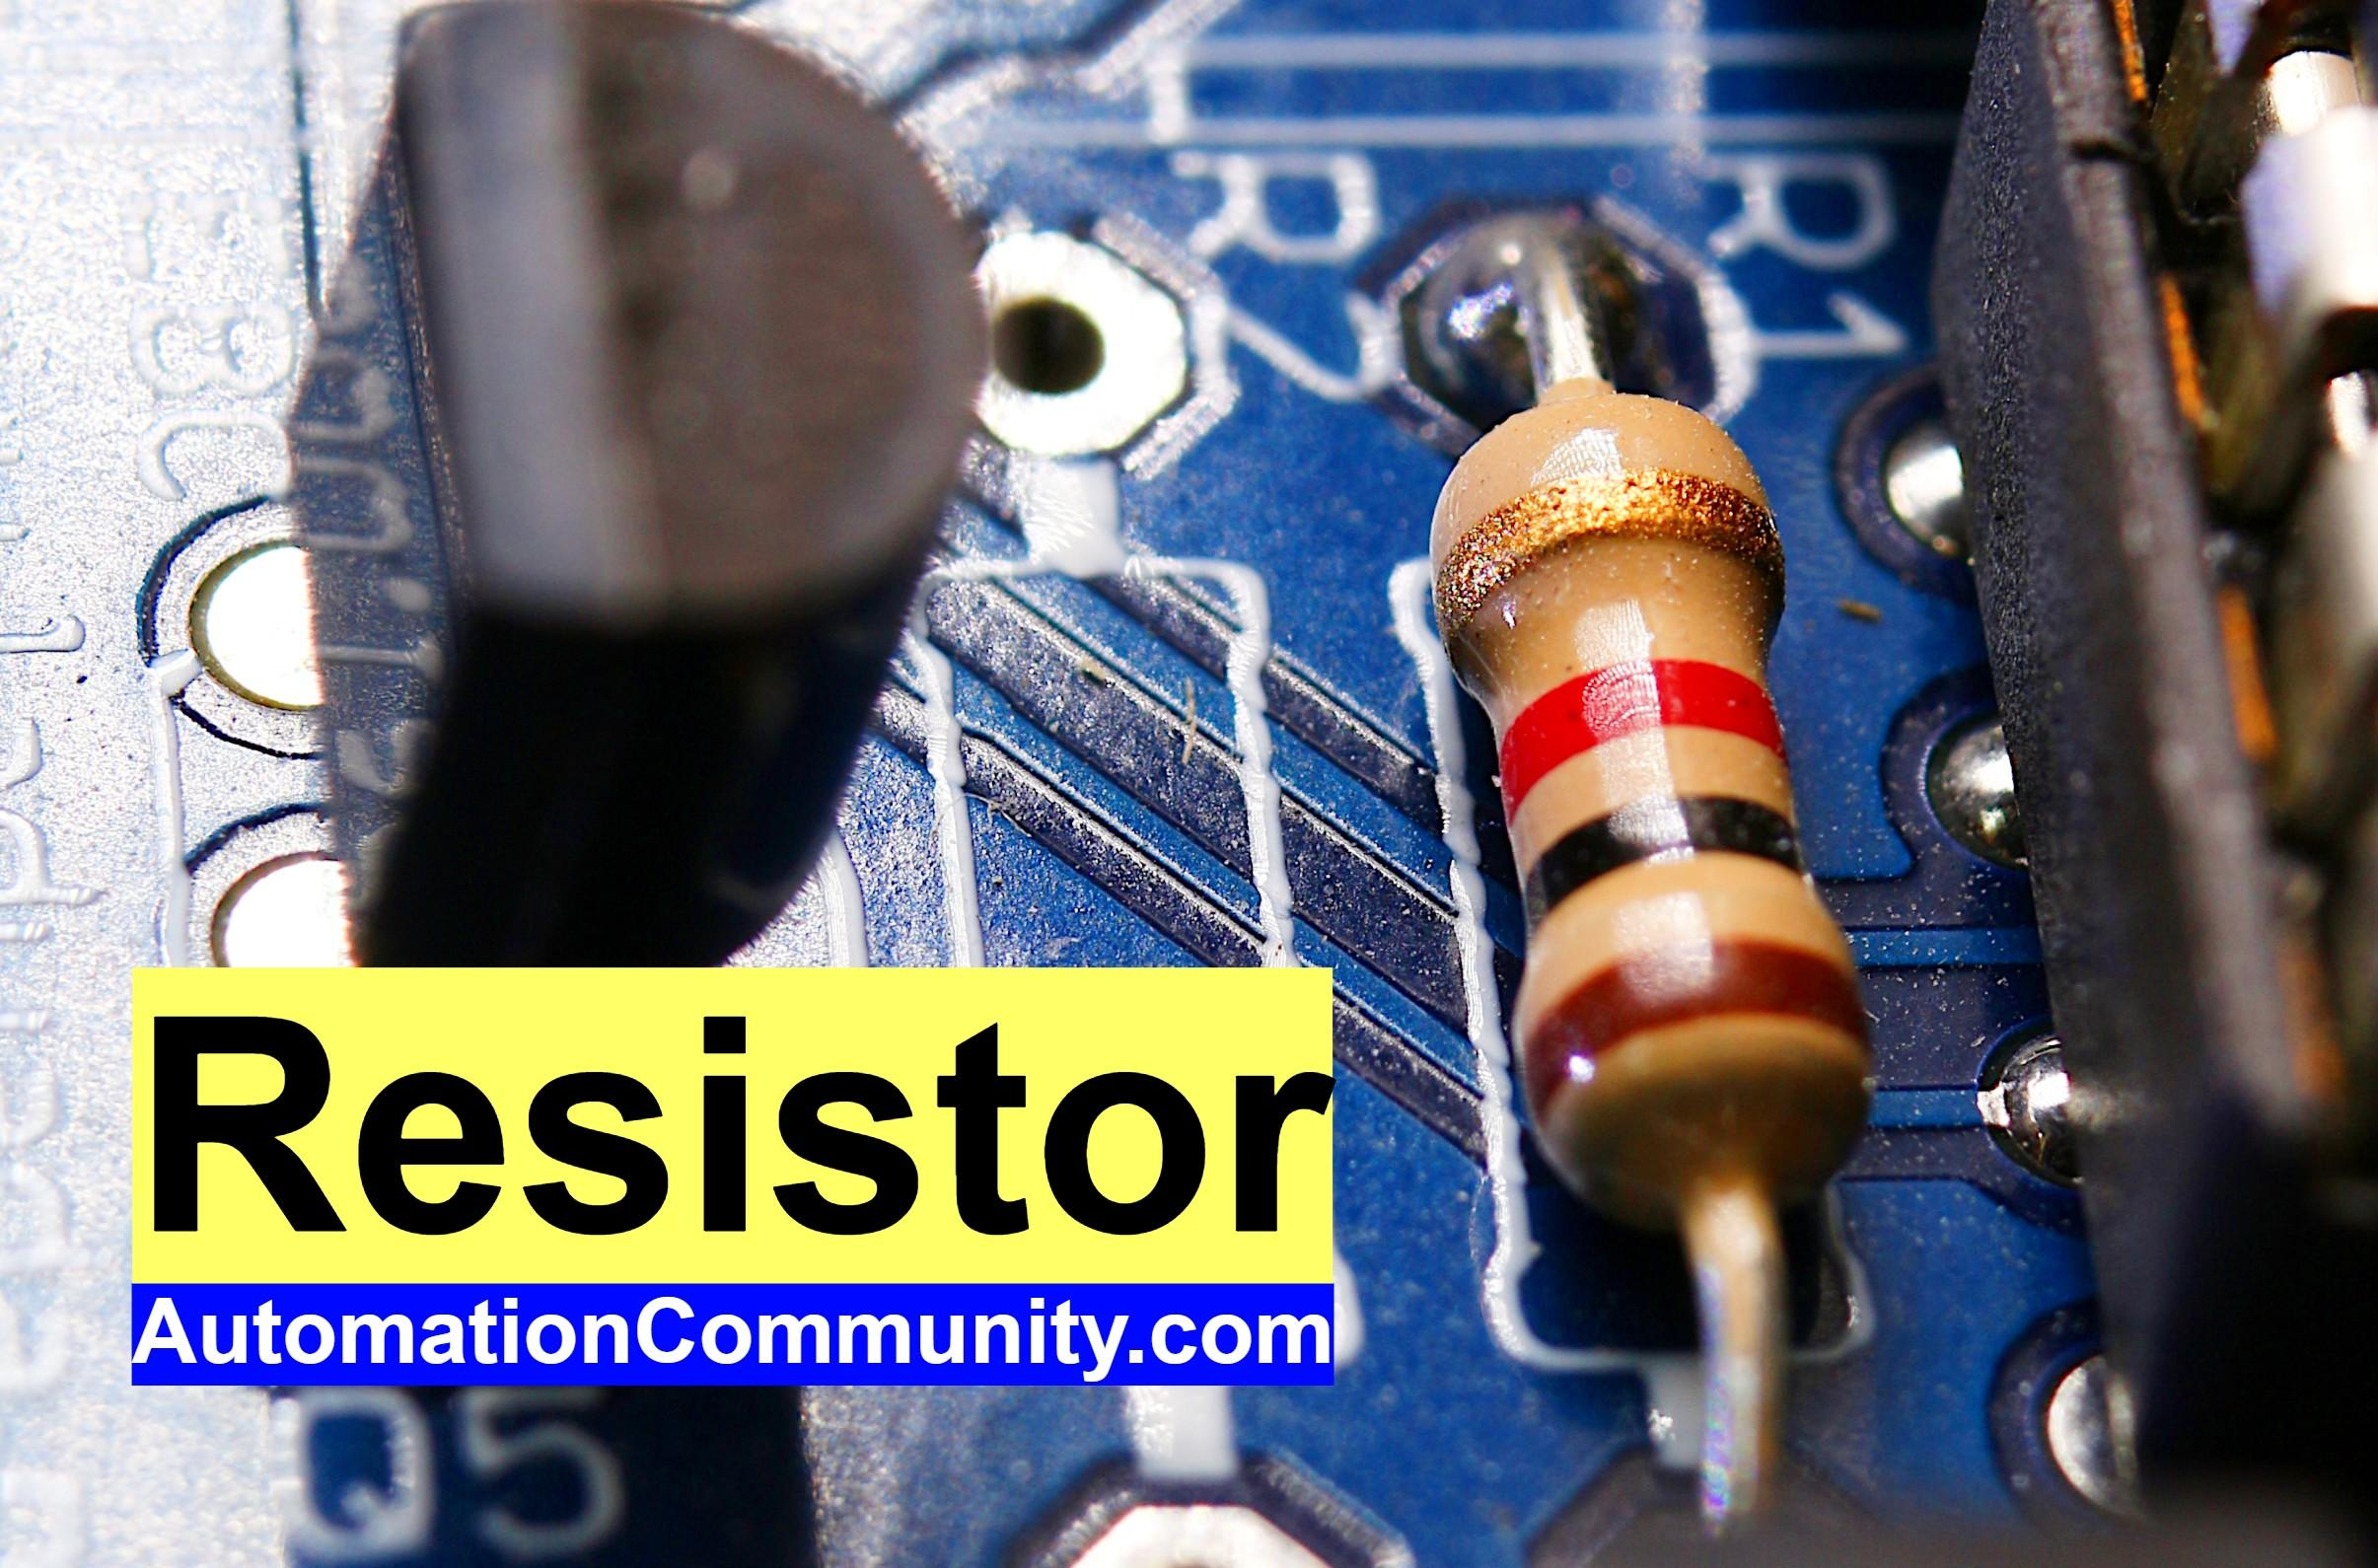resistor: (1437, 371, 1872, 1249)
